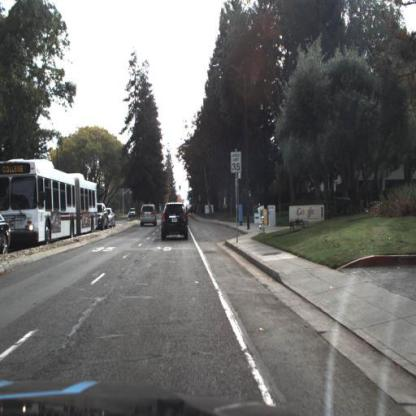car: (161, 201, 191, 243), (139, 202, 159, 229), (98, 199, 111, 233)
truck: (5, 157, 99, 245)
